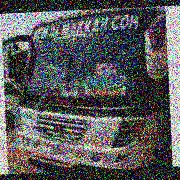bus: (4, 6, 173, 174)
